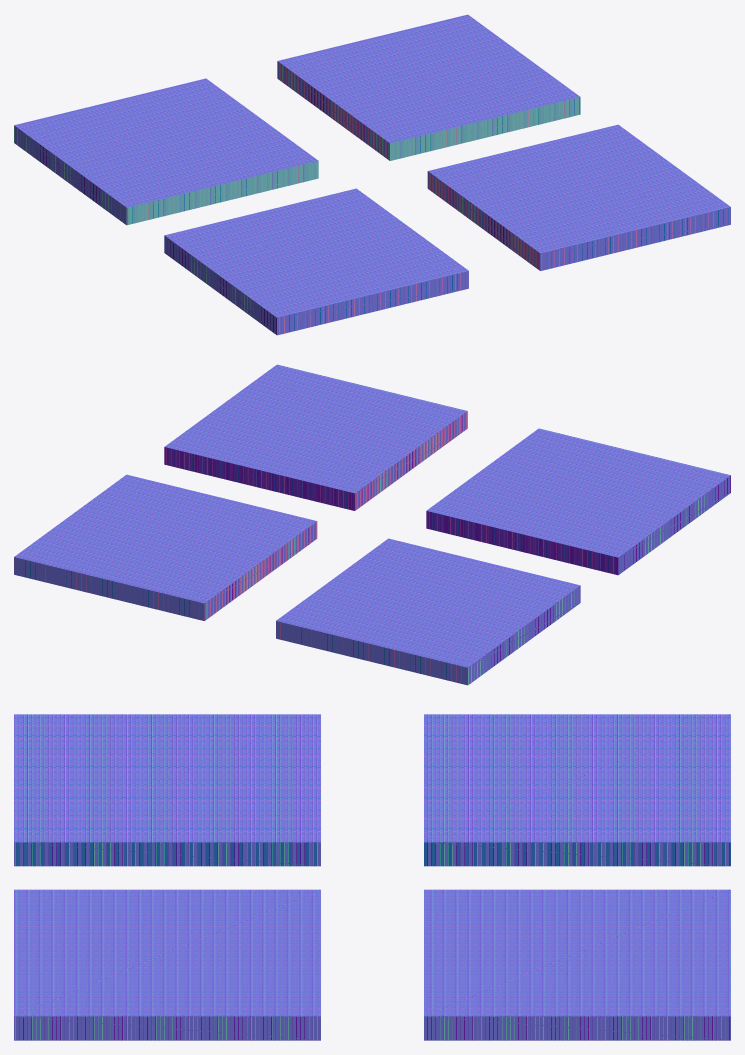
File: Platform.dae
3 views of the same model, one above another, from view 1: azimuth 30°, elevation 25°; view 2: azimuth 150°, elevation 25°; view 3: azimuth 270°, elevation 25° (orthographic). The views are drawn at different scales.
Visible parts, largest first — view 1: Platform; view 2: Platform; view 3: Platform.
Boxes of the visible parts, left/top/right/bottom form: Platform: left=14, top=14, right=730, bottom=335; Platform: left=14, top=364, right=730, bottom=685; Platform: left=14, top=714, right=730, bottom=1040.
Size of the model in its own units: 156 by 5.81 by 156.
